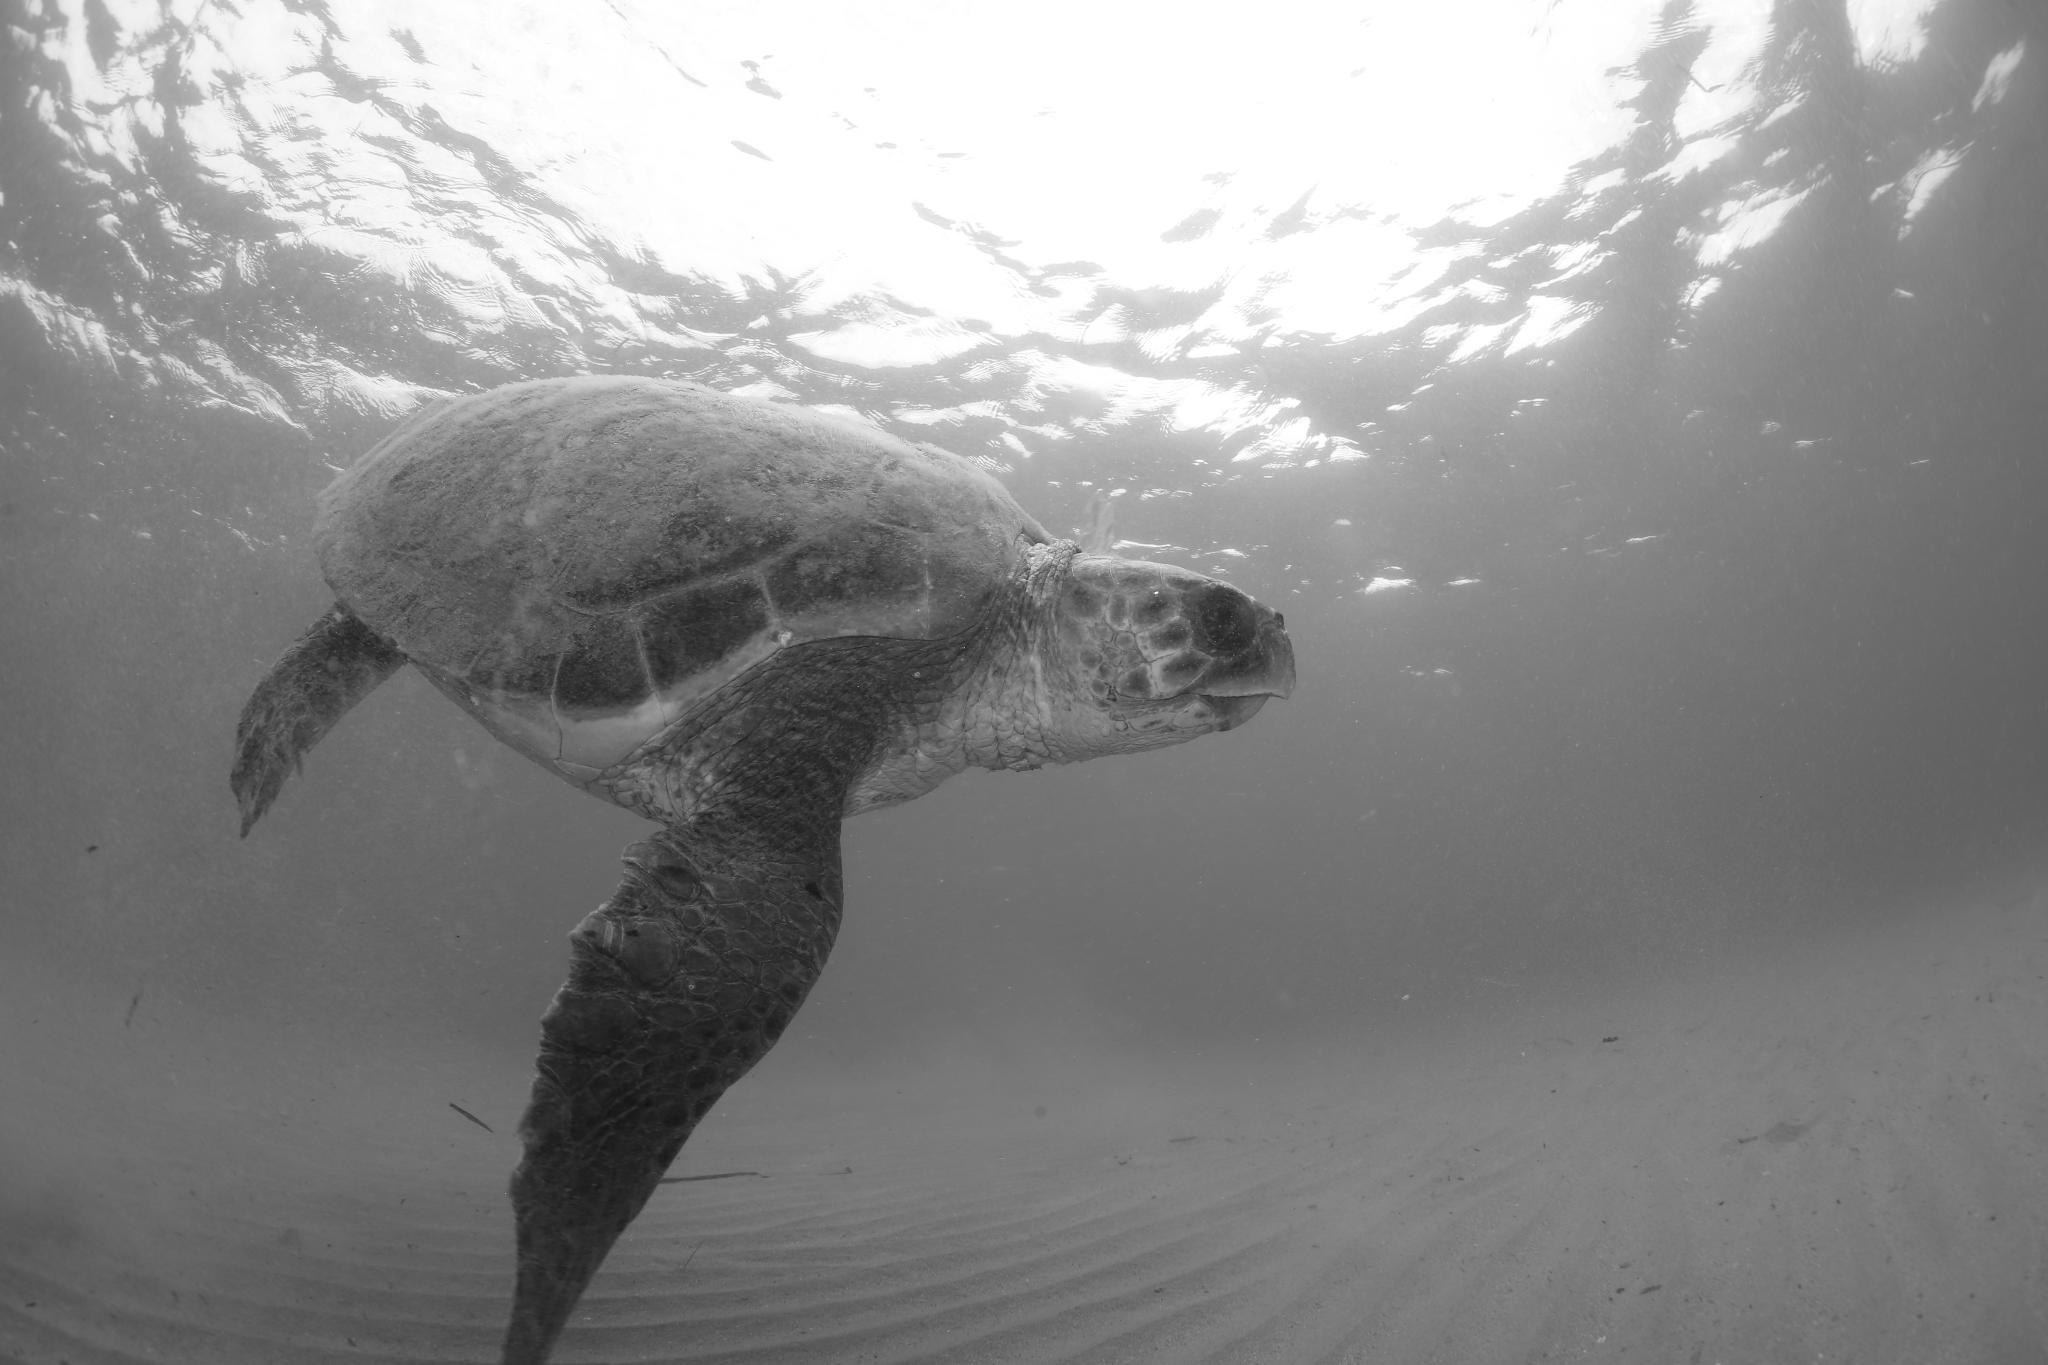Head: (1032, 552, 1295, 763)
